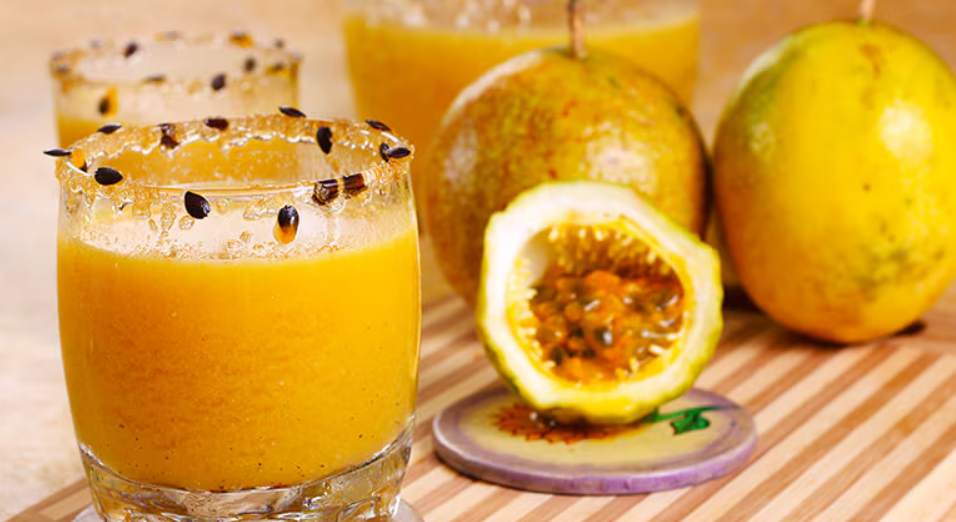maracuya: (702, 16, 956, 358)
